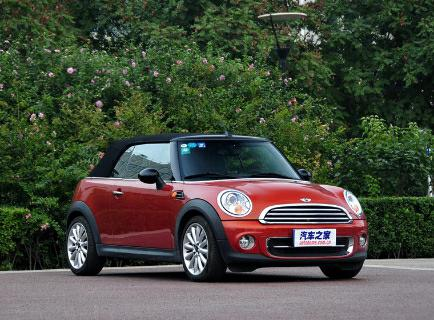MINI: (61, 124, 385, 288)
